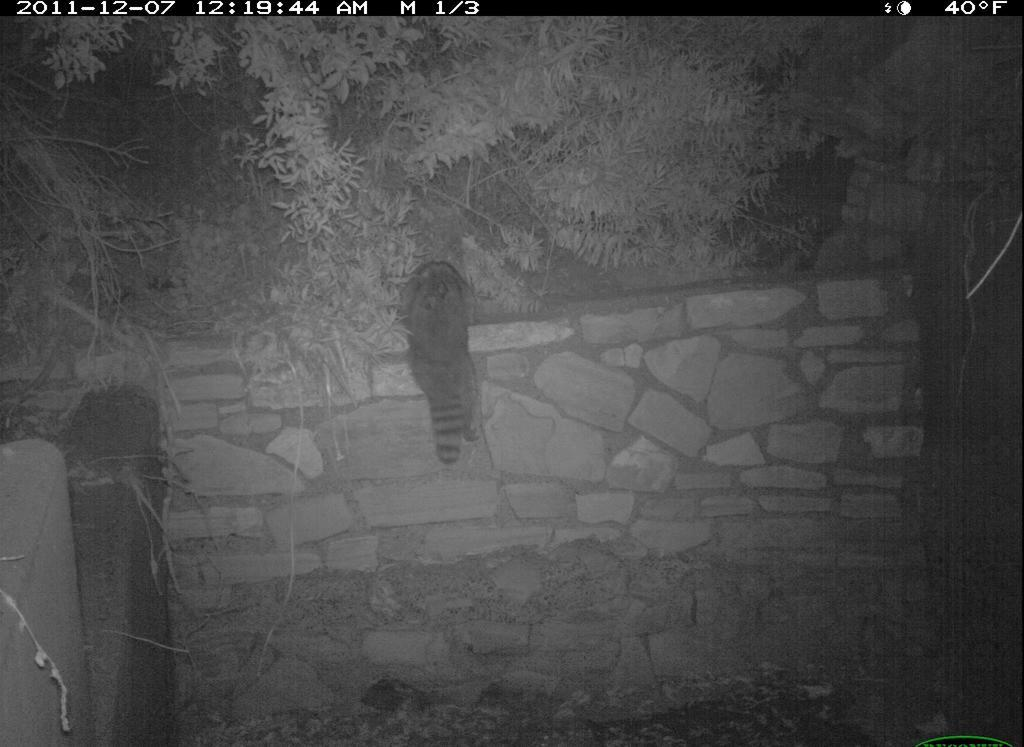raccoon: (392, 257, 488, 472)
